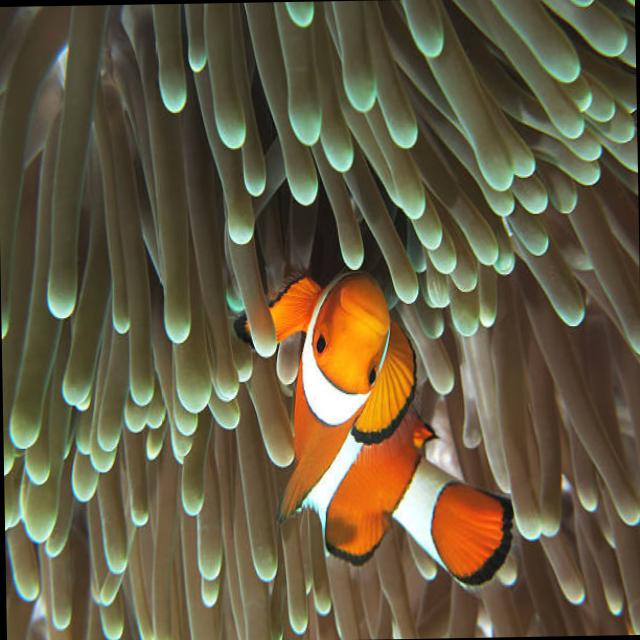ClownFish: (234, 272, 511, 589)
